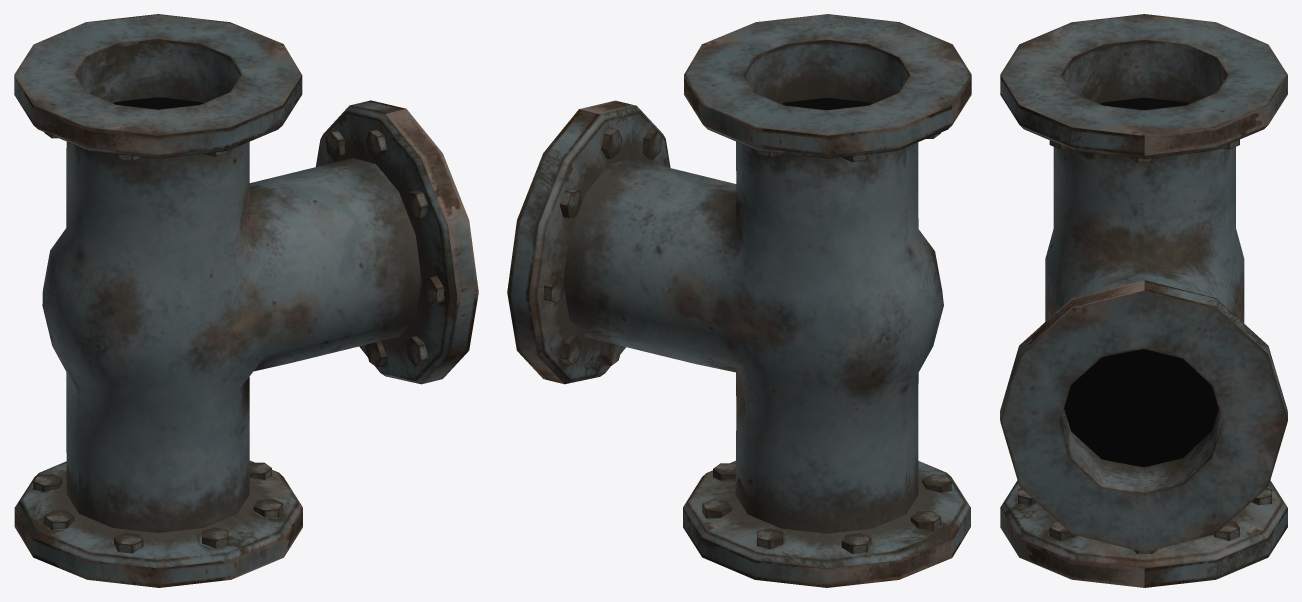
Rendered from pipe06.gltf.
3 renders of one model, left to right at view 1: azimuth 30°, elevation 25°; view 2: azimuth 150°, elevation 25°; view 3: azimuth 270°, elevation 25°, orthographic.
Visible parts, largest first — view 1: modular_industrial_pipes_01_pipe06; view 2: modular_industrial_pipes_01_pipe06; view 3: modular_industrial_pipes_01_pipe06.
Part boxes in pixels (x1,y1,x2,y2): modular_industrial_pipes_01_pipe06: (14, 14, 478, 587); modular_industrial_pipes_01_pipe06: (507, 14, 971, 587); modular_industrial_pipes_01_pipe06: (1000, 14, 1287, 587).
Size of the model in its own units: 0.3087 by 0.3576 by 0.2064.
1 material, 1 textured.
